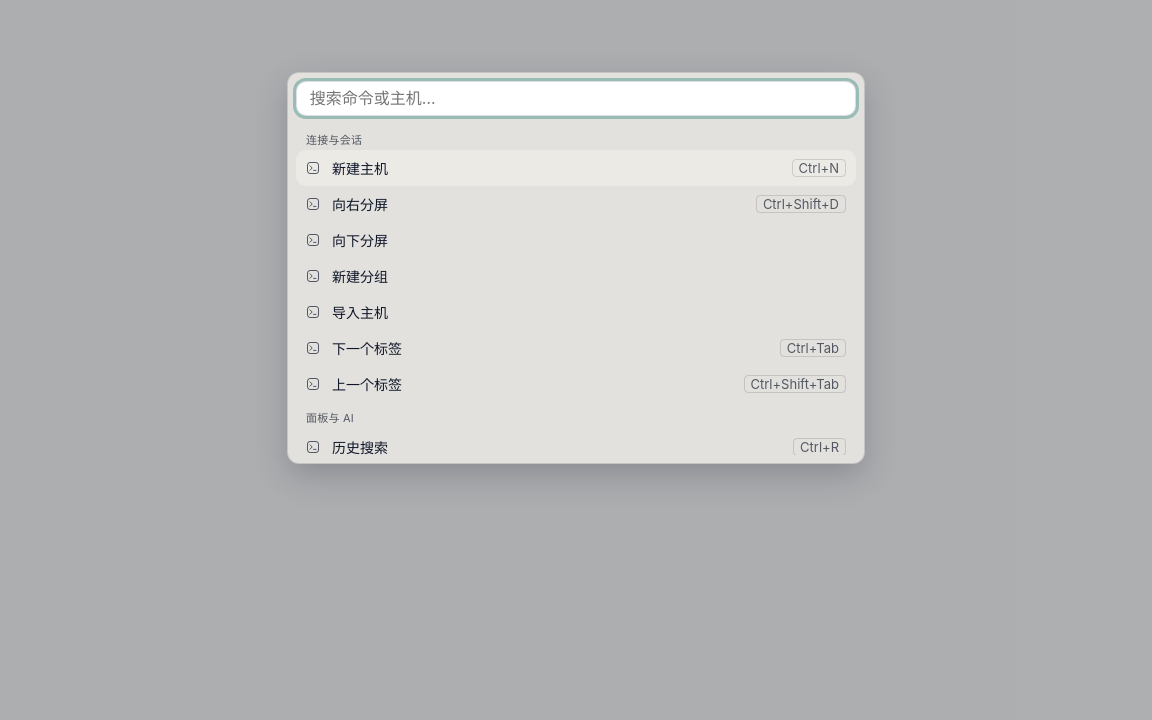
Scenario: 模糊过滤 + 高亮 › 全不命中显示空态
Type "zzzz" into the field with test id "palette-input" at (576, 98), box [296,81,856,116]
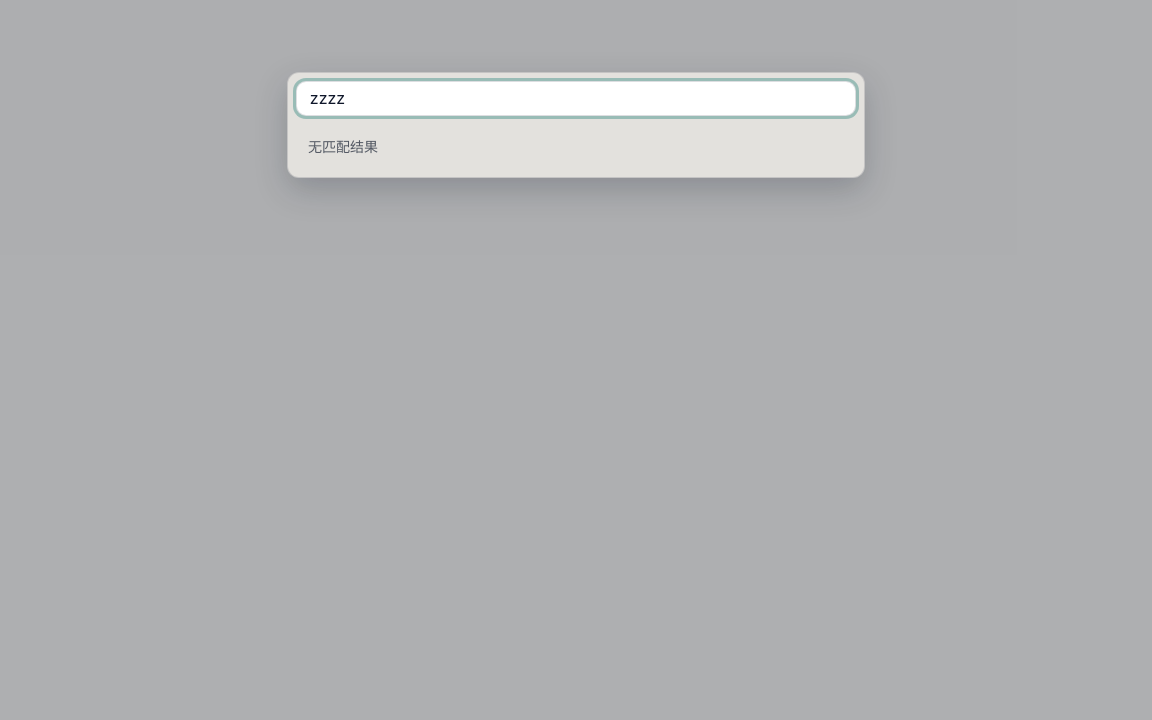
Expected: the list item "无匹配结果" is shown, [308,138,378,155]
